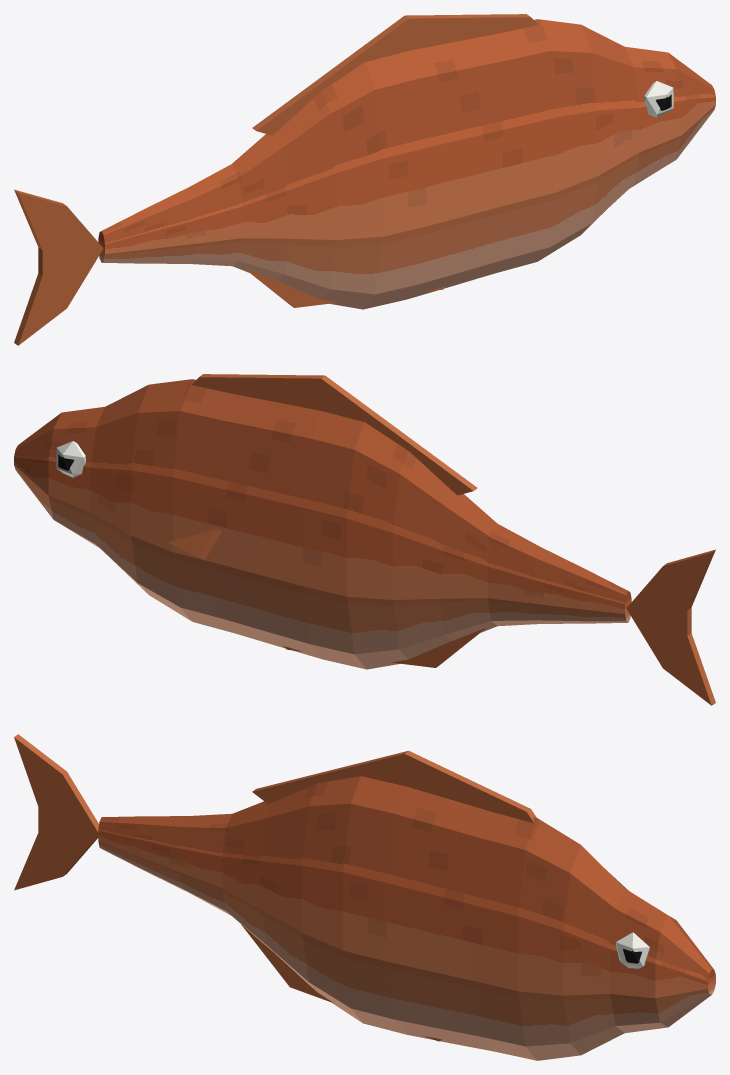
File: orange_roughy.glb
3 renders of one model, top to bottom at view 1: azimuth 30°, elevation 25°; view 2: azimuth 150°, elevation 25°; view 3: azimuth 330°, elevation 25°, orthographic.
Visible parts, largest first — view 1: fish_orange_roughy; view 2: fish_orange_roughy; view 3: fish_orange_roughy.
Boxes of the visible parts, box(x1,y1,x2,y2) form: fish_orange_roughy: box(14, 14, 715, 345); fish_orange_roughy: box(14, 374, 715, 705); fish_orange_roughy: box(14, 734, 715, 1060).
Size of the model in its own units: 1.14 by 0.4423 by 0.1417.
Materials: 4 (1 with a texture image).
